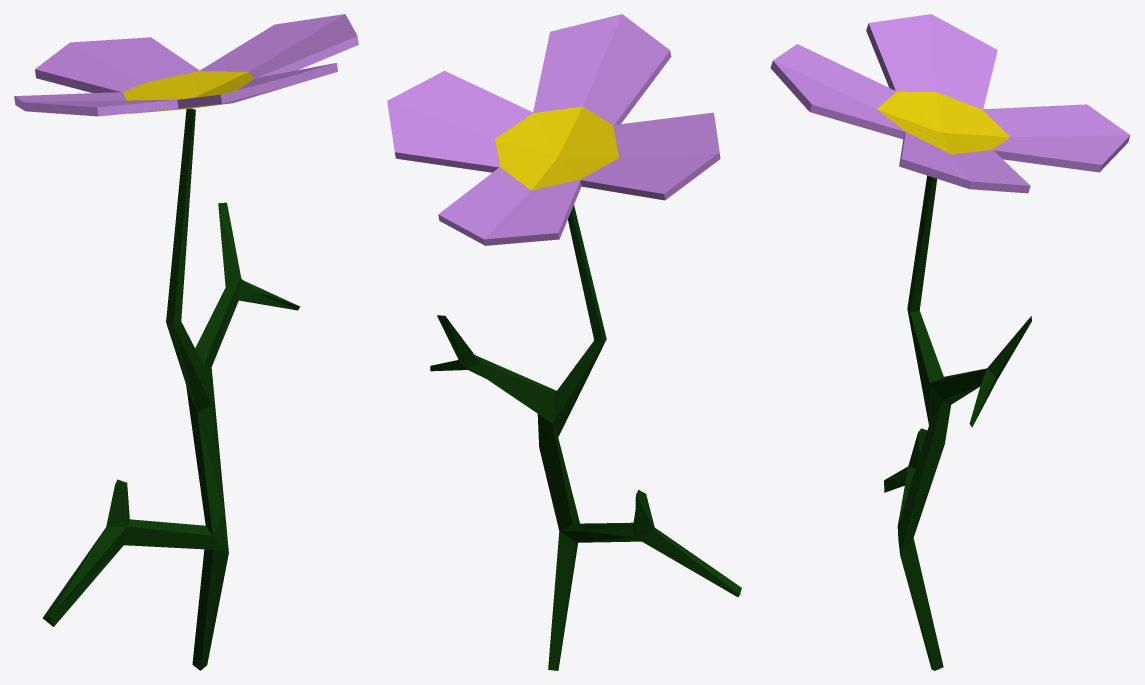
File: magenta_flower.fbx
3 renders of one model, left to right at view 1: azimuth 30°, elevation 25°; view 2: azimuth 150°, elevation 25°; view 3: azimuth 270°, elevation 25°, orthographic. The views are drawn at different scales.
Parts seen in each view (by area): view 1: Cube, Plane.003; view 2: Plane.003, Cube; view 3: Plane.003, Cube.
Part boxes in pixels (x1,y1,x2,y2): Cube: (43,108,300,670); Plane.003: (14,14,358,116); Plane.003: (387,14,720,245); Cube: (430,205,741,670); Plane.003: (770,14,1130,193); Cube: (884,175,1031,670).
Size of the model in its own units: 19.56 by 35.49 by 18.82.
